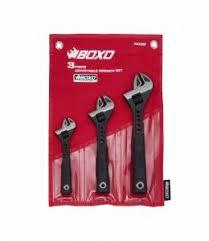wrench: (120, 69, 154, 195), (86, 93, 116, 193), (52, 115, 78, 195)
